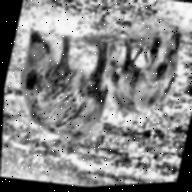boar: (7, 24, 120, 148), (94, 15, 188, 121)
